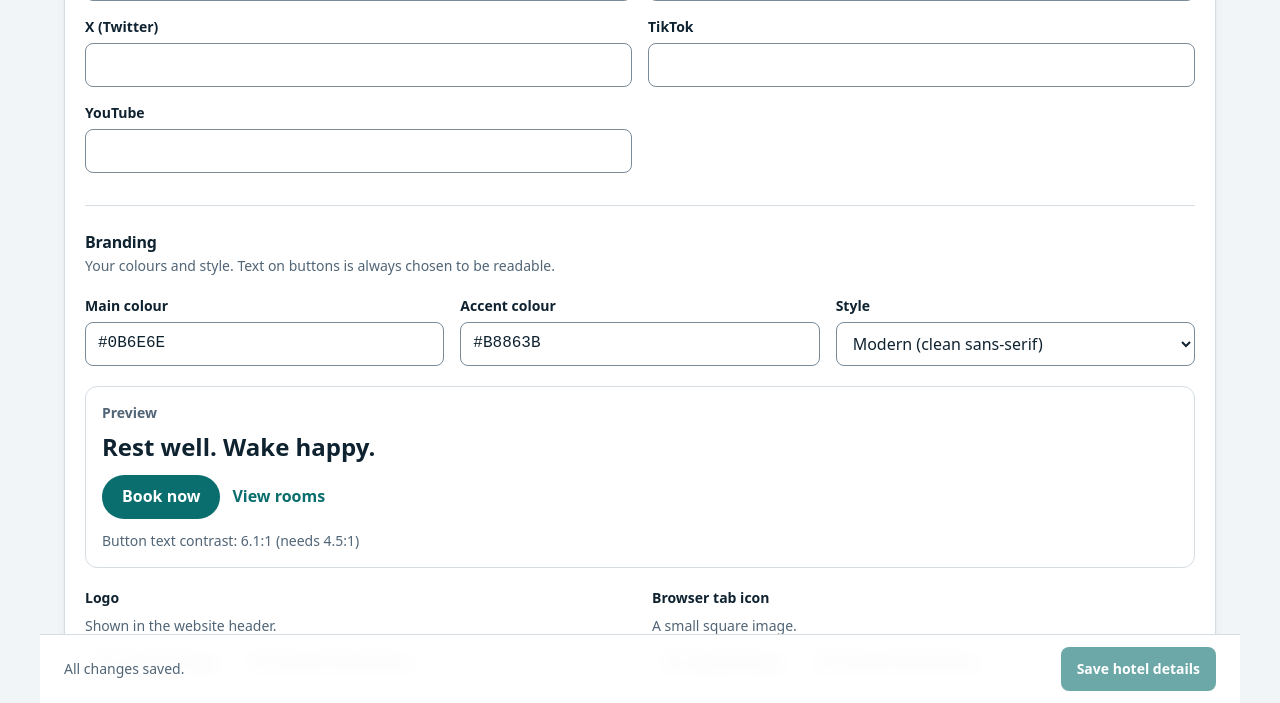
Test case: hotel details form › Main colour: shows a clear message and sends nothing
(page scrolled)
Replace the text in the field labelled "Main colour" with "teal" at (265, 344), box [85,322,444,366]
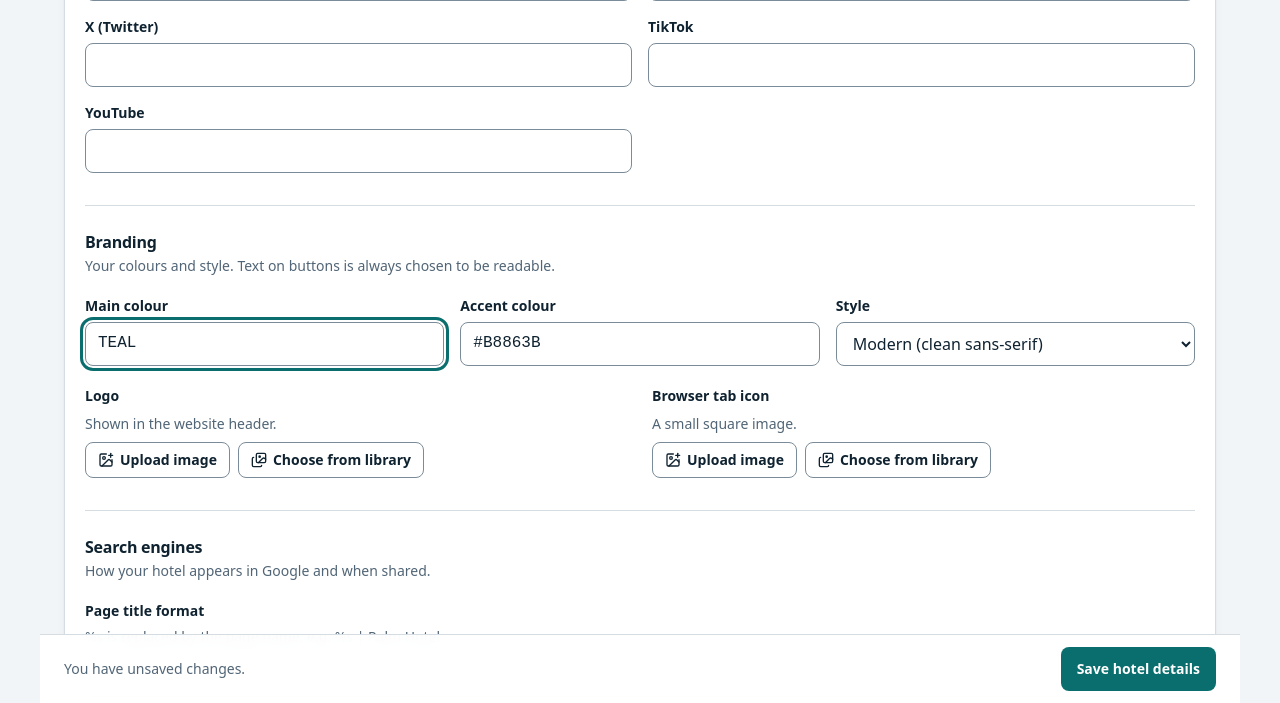
Click the button "Save hotel details" at (1138, 669), box [1061,647,1216,691]
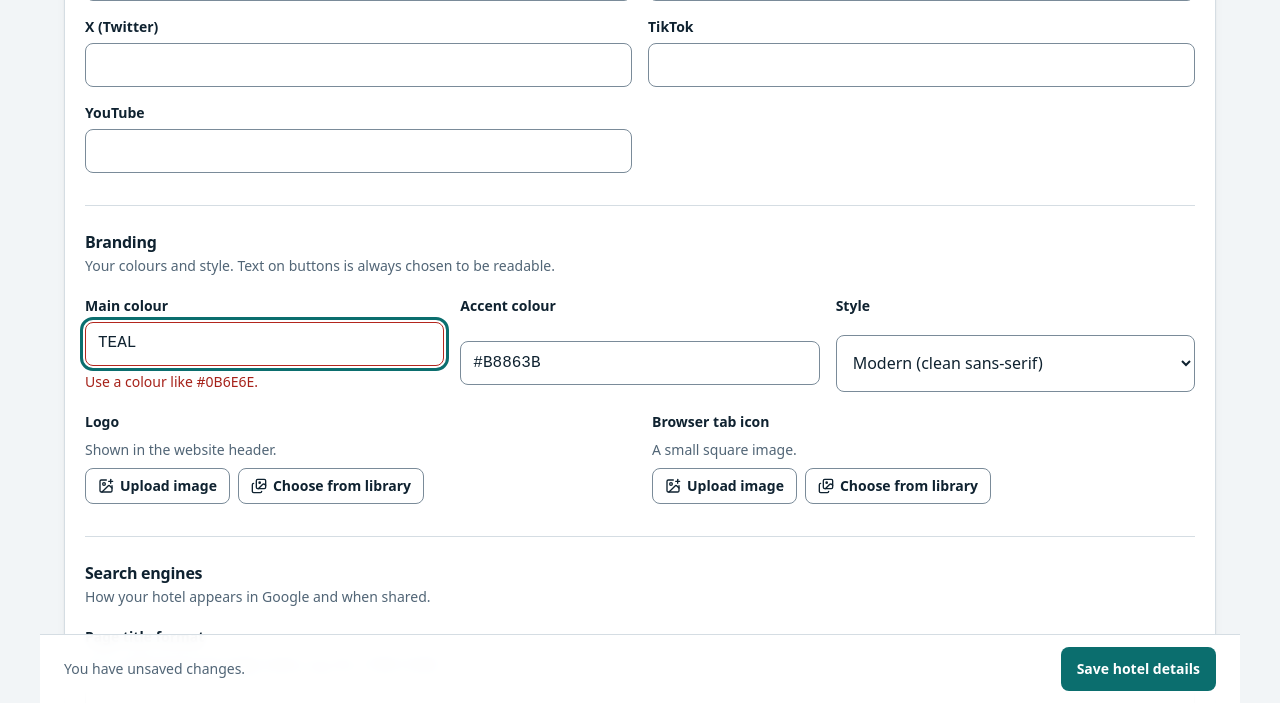
Expected: the text "Use a colour like #0B6E6E." is shown, [85,372,258,391]
